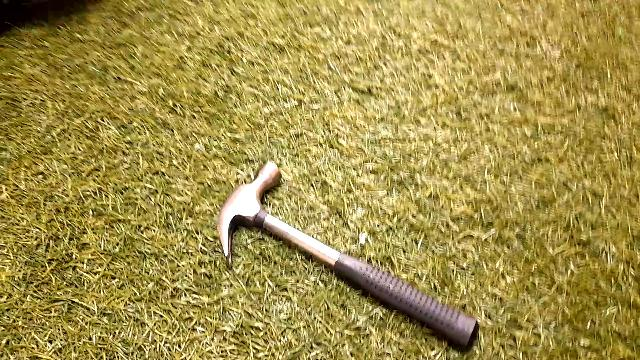hammer: (206, 160, 484, 354)
